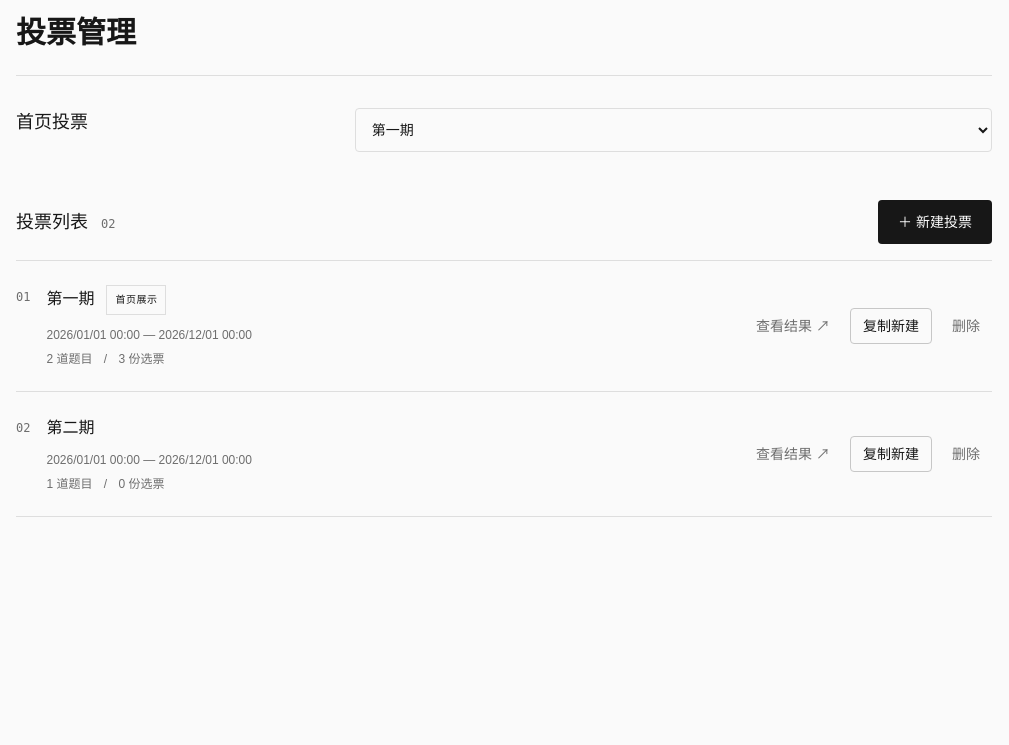
Test: loads a copy and results from their specific archive endpoints
Click the button with aria-label "查看第一期结果" at (793, 326), box [744, 308, 842, 344]
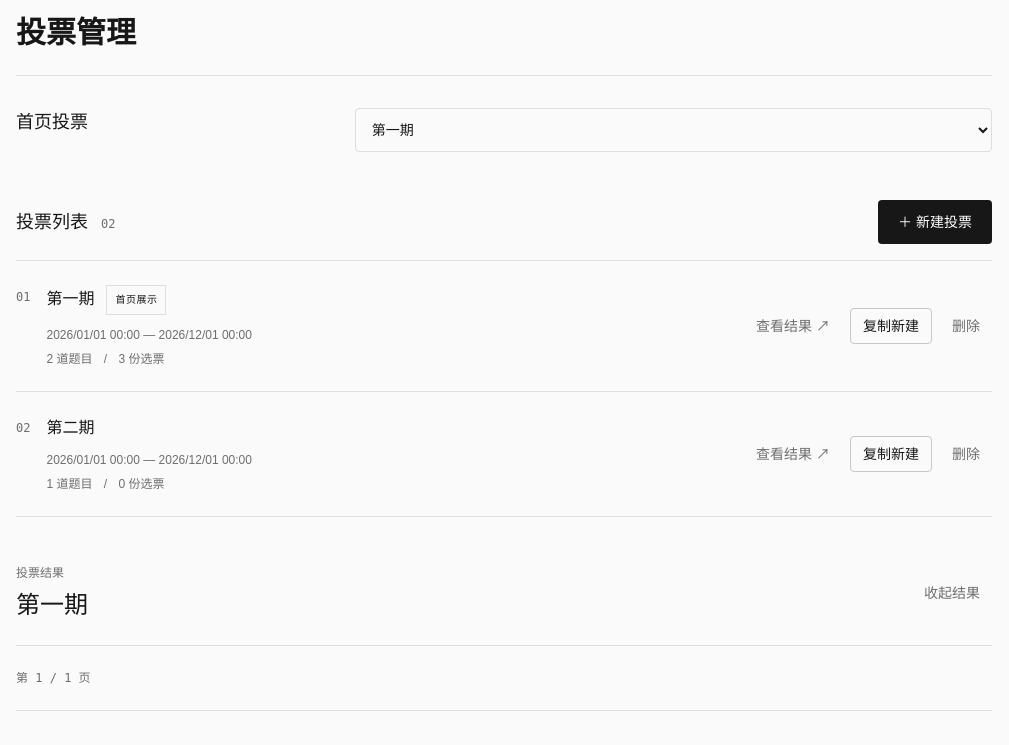
Click the button with aria-label "复制第一期" at (891, 326), box [850, 308, 932, 344]
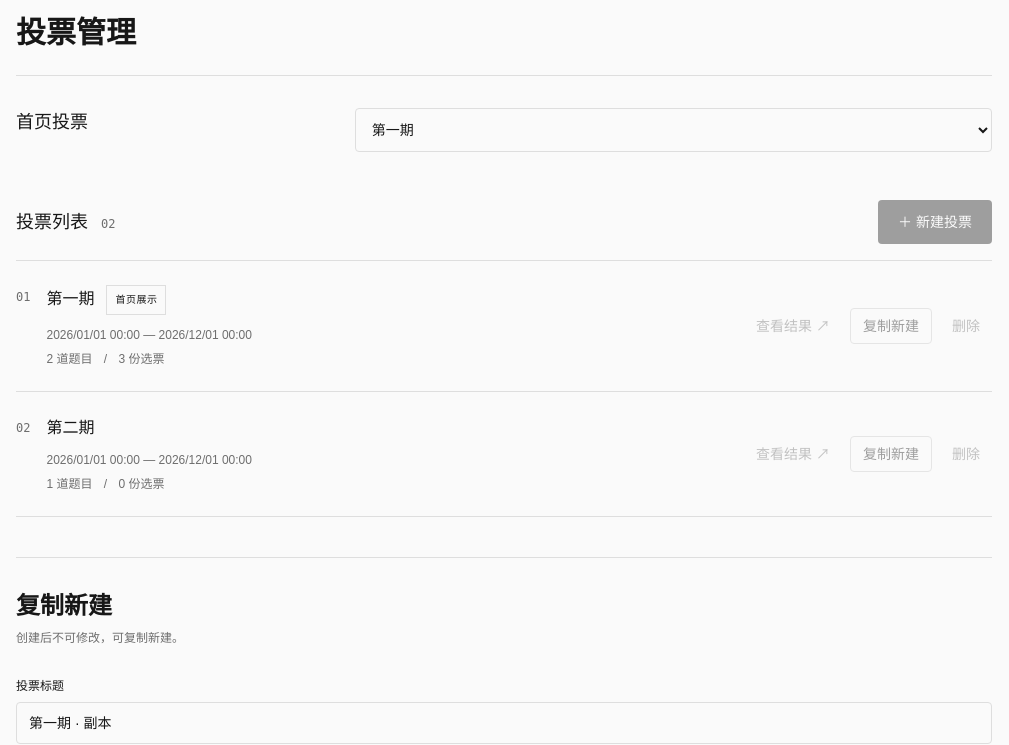
Now the field labelled "投票标题" holds "第一期 · 副本", box [16, 702, 992, 744]
